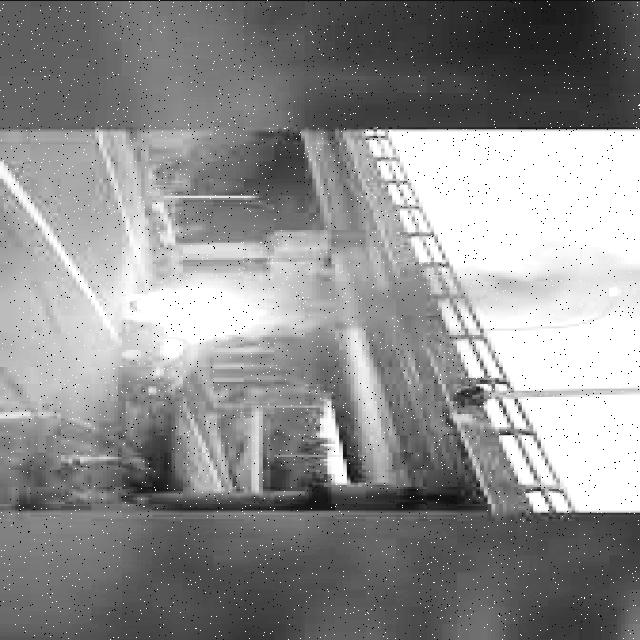api: (127, 280, 283, 346)
